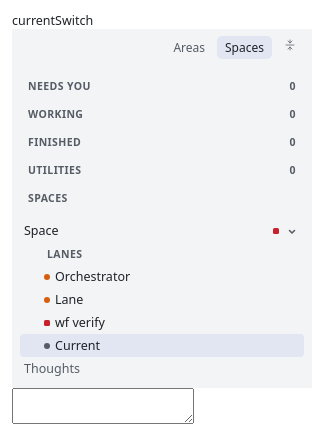
Test: Spaces clicks select without opening details
The width and height of the screenshot is (332, 441).
Click the button with class "select-tab" showing "Lane" at (172, 300), box [44, 288, 300, 311]
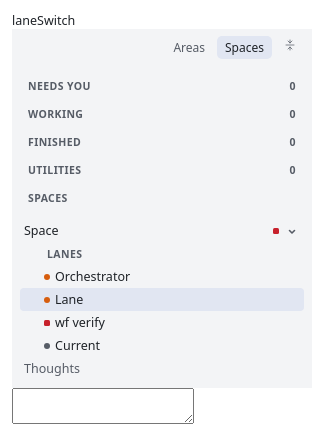
Expected: the text "lane" is shown, [12, 12, 37, 29]
